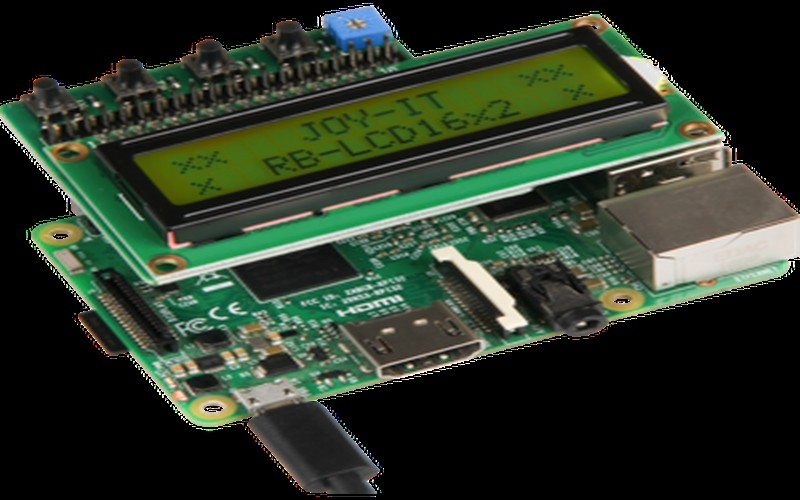LCD: (75, 22, 691, 252)
